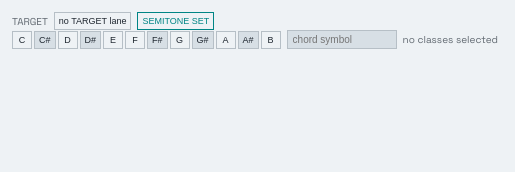
SEMITONE SET mode (spec §5.4) › lists the selected classes beside the field, or says there are none
Check: the text with test id "chroma-chord-hint" reads "no classes selected", box [403,33,498,46]
In the field with test id "chroma-chord": (342, 40) [287,30,397,49], type "C"
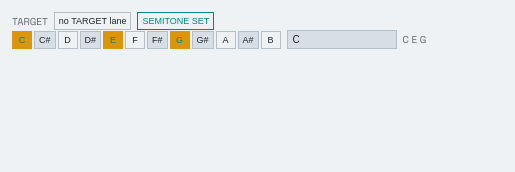
Check: the text with test id "chroma-chord-hint" reads "C E G", box [403,33,426,46]
